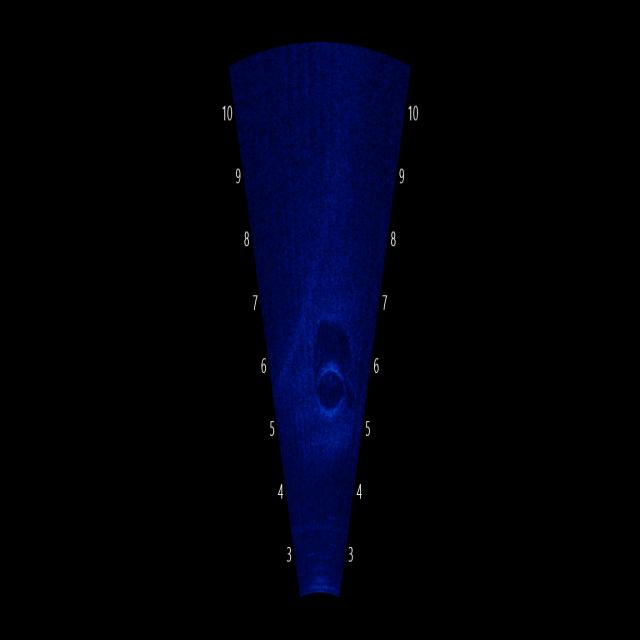circle: (307, 350, 354, 427)
